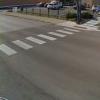Crosswalk: (5, 34, 81, 51)
